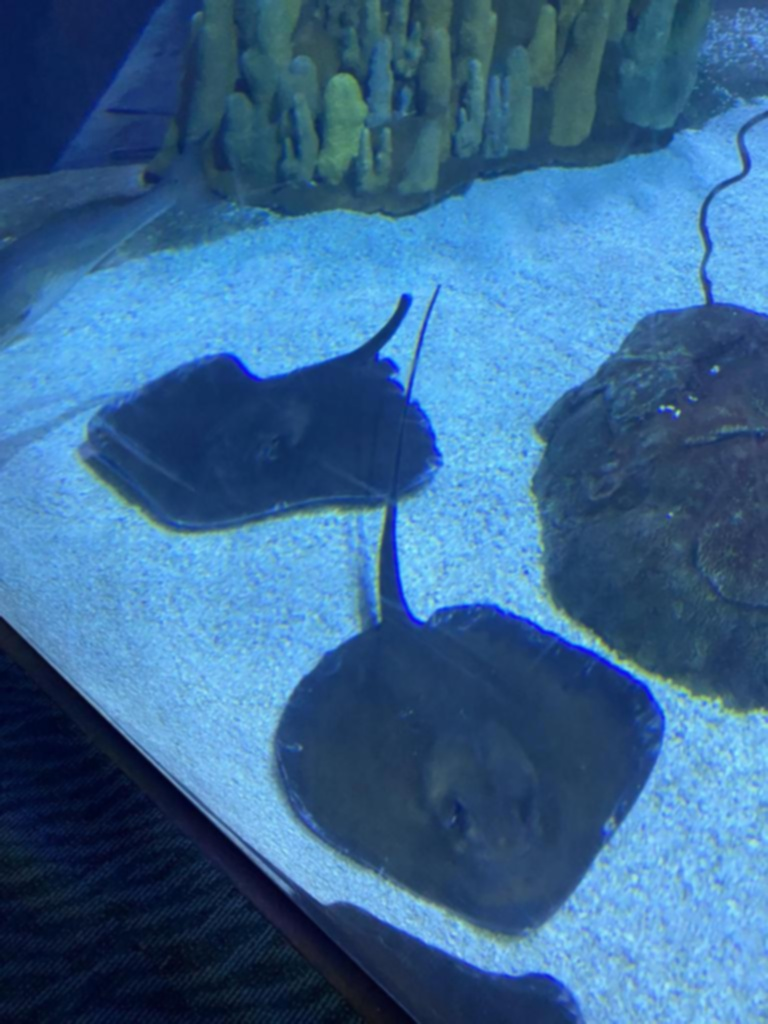fish: (0, 130, 224, 348)
stingray: (272, 603, 664, 935), (84, 354, 438, 534)
